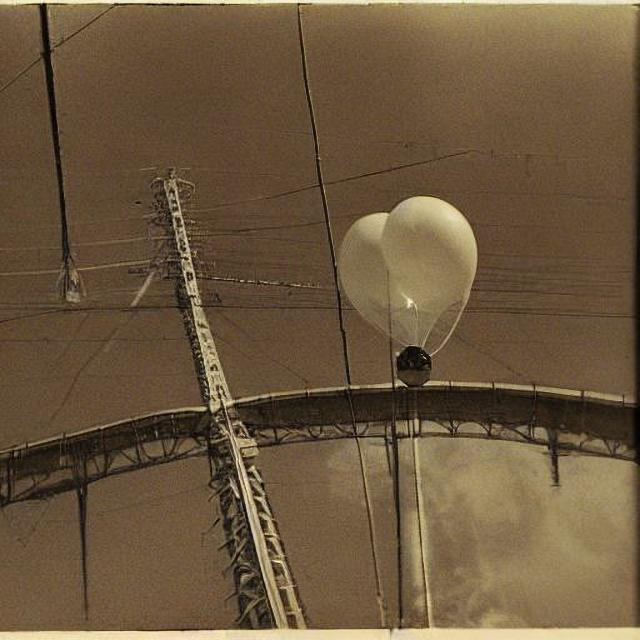balloon: (320, 185, 486, 392)
